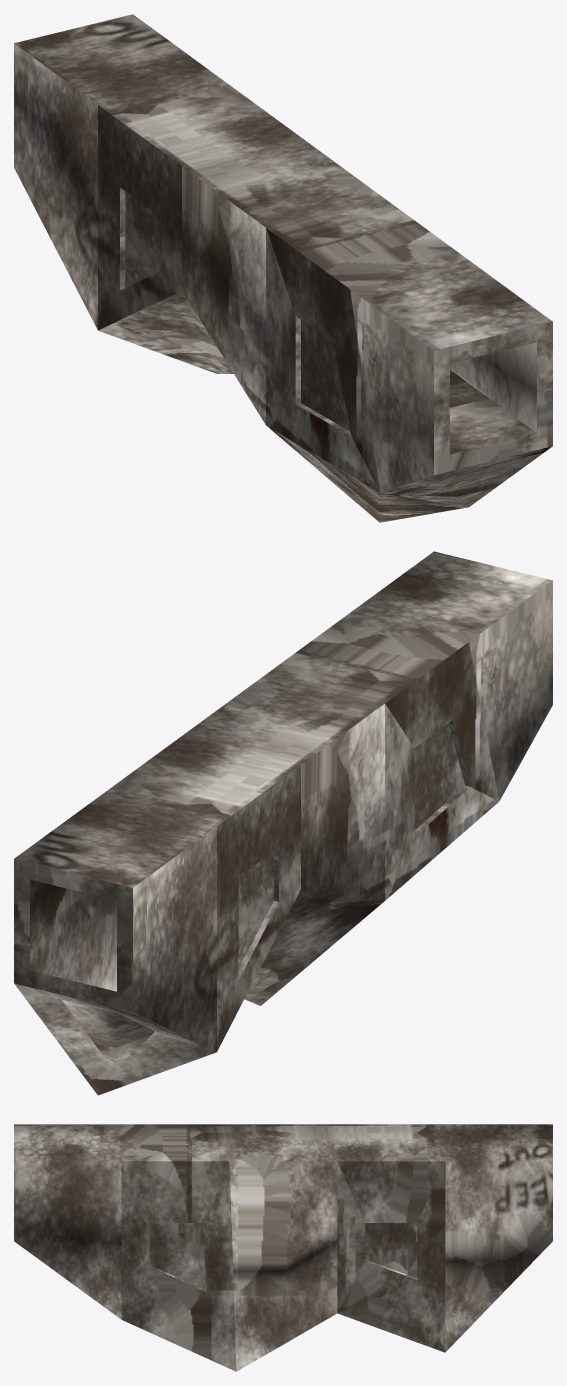
File: EdificioPuente.obj
3 renders of one model, top to bottom at view 1: azimuth 30°, elevation 25°; view 2: azimuth 150°, elevation 25°; view 3: azimuth 270°, elevation 25°, orthographic. The views are drawn at different scales.
Visible parts, largest first — view 1: Tube006; view 2: Tube006; view 3: Tube006.
Part boxes in pixels (left/top/right/bottom): Tube006: left=14, top=14, right=552, bottom=522; Tube006: left=14, top=551, right=552, bottom=1095; Tube006: left=14, top=1124, right=552, bottom=1371.
Size of the model in its own units: 14.4 by 37.95 by 88.11.
